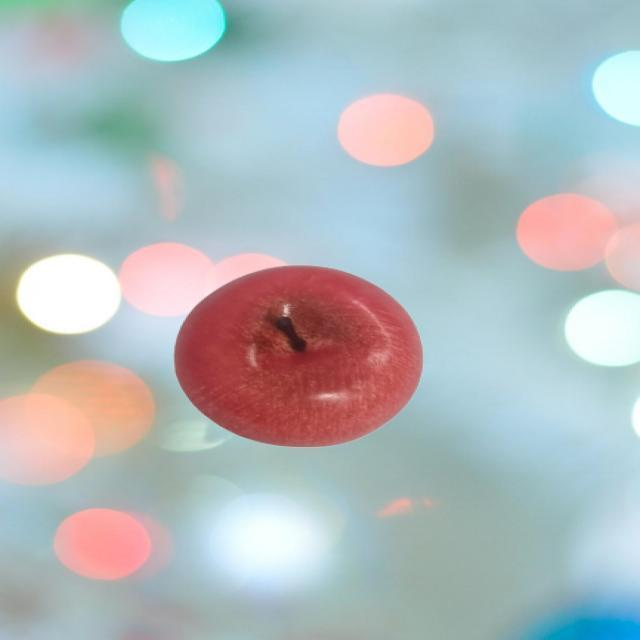apple: (175, 265, 424, 446)
